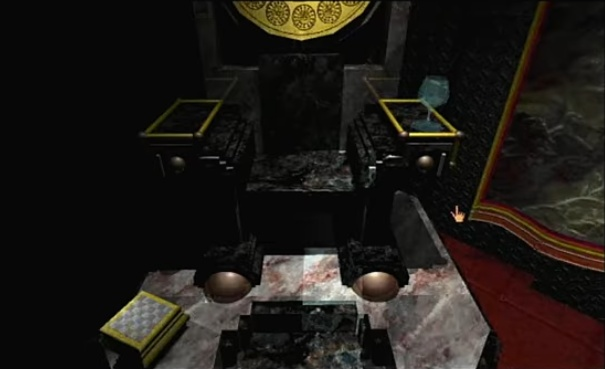Pointer: (446, 202, 471, 224)
